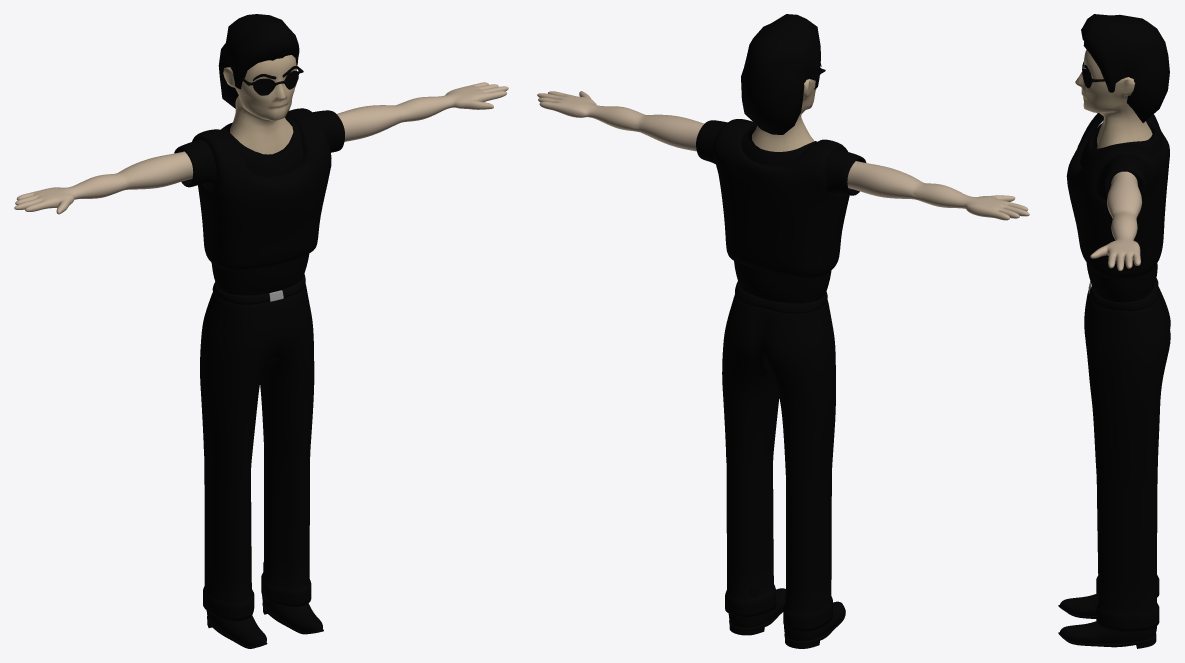
Rendered from MrMan.fbx.
3 views of the same model, side by side, from view 1: azimuth 30°, elevation 25°; view 2: azimuth 150°, elevation 25°; view 3: azimuth 270°, elevation 25° (orthographic).
Parts seen in each view (by area): view 1: mrMan; view 2: mrMan; view 3: mrMan.
Part boxes in pixels (x1=…): mrMan: x1=14, y1=14, x2=508, y2=648; mrMan: x1=537, y1=14, x2=1029, y2=648; mrMan: x1=1058, y1=14, x2=1170, y2=648.
Size of the model in its own units: 164 by 192 by 32.18.
